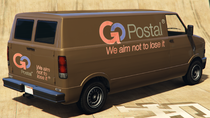car: (6, 11, 206, 114)
